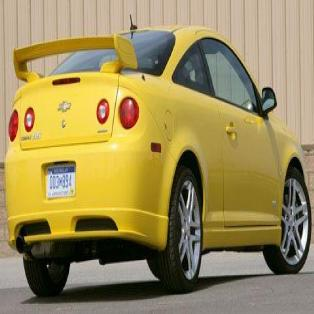Auto: (5, 13, 312, 292)
